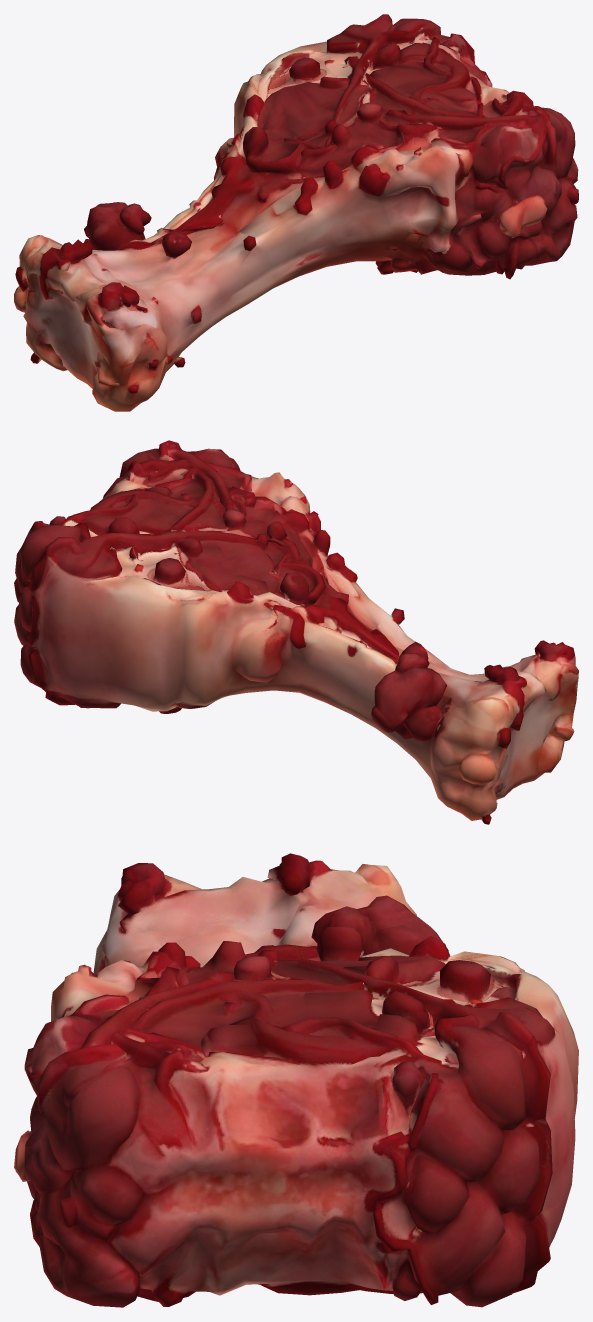
The model's file is meat.glb.
The picture shows the model from 3 angles, top to bottom: view 1: azimuth 30°, elevation 25°; view 2: azimuth 150°, elevation 25°; view 3: azimuth 270°, elevation 25°; orthographic projection. The views are drawn at different scales.
Parts seen in each view (by area): view 1: tripo_node_59ecd786-266b-4395-ba37-6f0c9fcfc6e8; view 2: tripo_node_59ecd786-266b-4395-ba37-6f0c9fcfc6e8; view 3: tripo_node_59ecd786-266b-4395-ba37-6f0c9fcfc6e8.
Part boxes in pixels (bbox=[...]): tripo_node_59ecd786-266b-4395-ba37-6f0c9fcfc6e8: bbox=[14, 14, 578, 411]; tripo_node_59ecd786-266b-4395-ba37-6f0c9fcfc6e8: bbox=[14, 440, 578, 824]; tripo_node_59ecd786-266b-4395-ba37-6f0c9fcfc6e8: bbox=[14, 853, 578, 1307].
Size of the model in its own units: 0.9768 by 0.4454 by 0.6136.
1 material, 1 textured.
